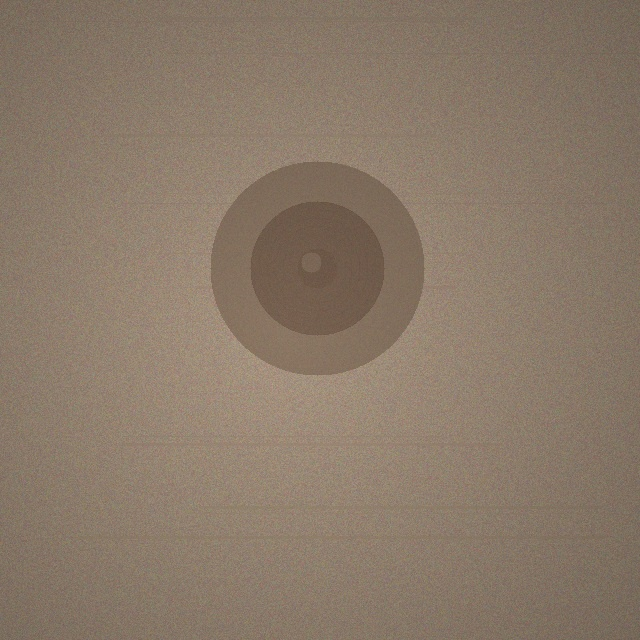good: (210, 161, 424, 375)
